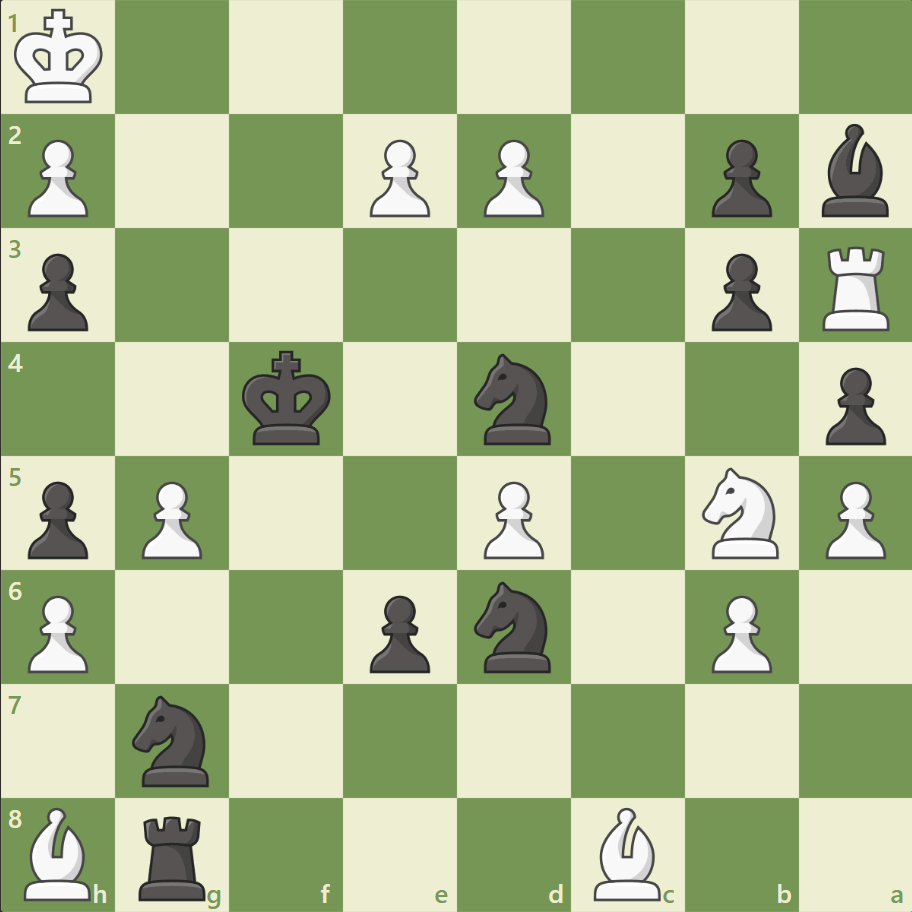B: (585, 801, 669, 904), (17, 801, 101, 904)
K: (11, 4, 111, 112)
N: (692, 461, 789, 564)
P: (701, 586, 776, 677), (20, 586, 95, 677), (474, 473, 549, 564), (133, 473, 208, 564), (474, 132, 549, 223), (20, 132, 95, 223), (815, 473, 889, 564), (361, 132, 435, 223)
R: (814, 239, 897, 336)
b: (812, 120, 896, 222)
k: (238, 344, 338, 452)
n: (124, 688, 222, 791), (465, 575, 562, 677), (465, 348, 562, 450)
p: (20, 473, 95, 564), (701, 246, 776, 337), (20, 246, 95, 337), (701, 132, 776, 223), (361, 586, 435, 677), (815, 359, 889, 450)
r: (133, 806, 215, 904)
